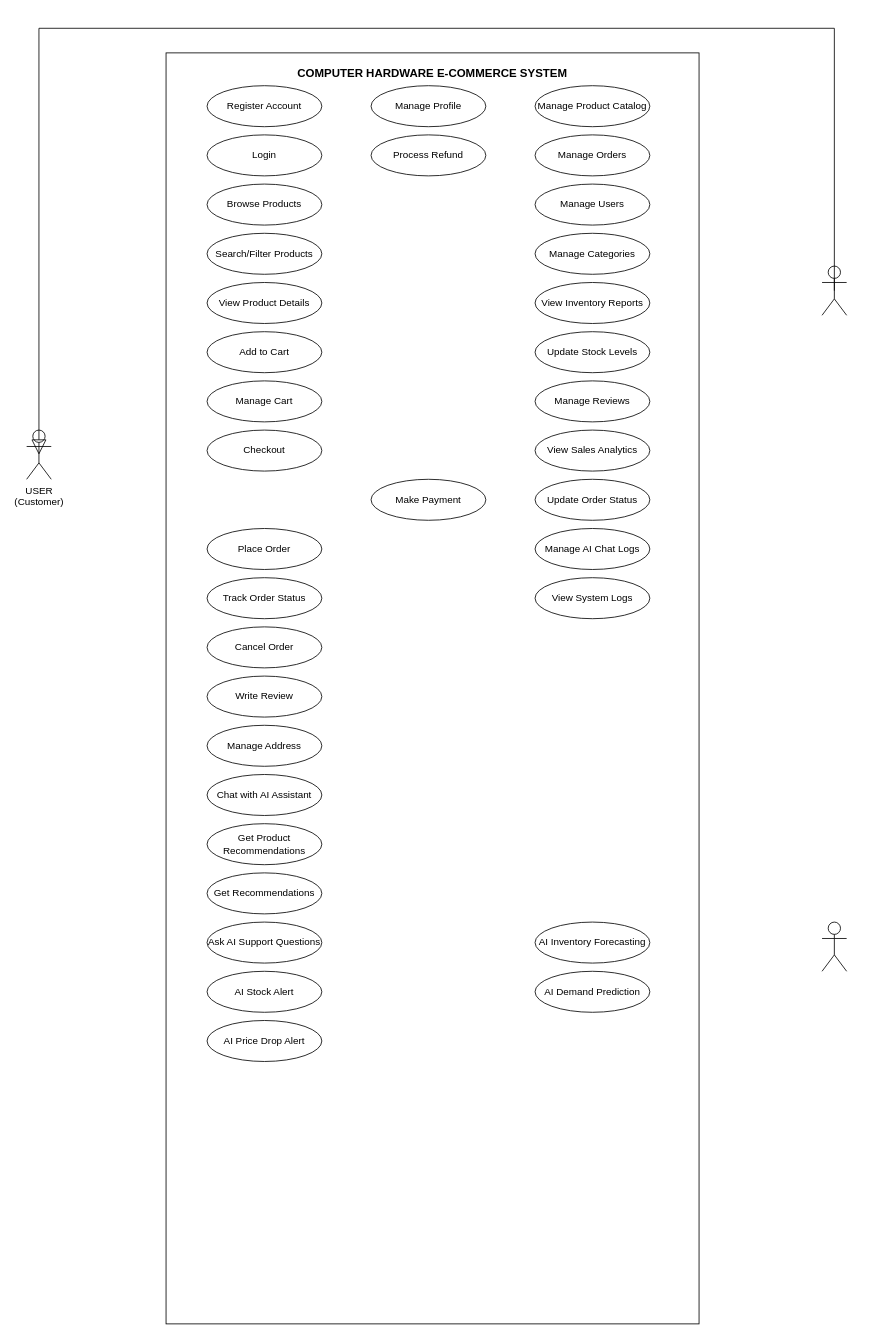
This 874x1338 diagram has some shape labels left out. Each missing label, with the centre of its shape:
"ADMIN (Manager)" belongs at (x=834, y=290).
"AI SYSTEM (Assistant)" belongs at (x=834, y=946).
